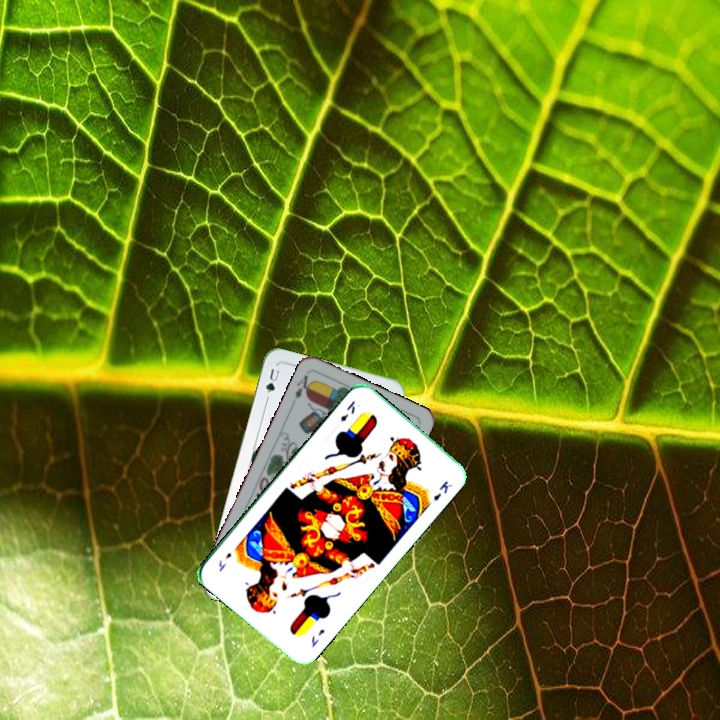EA: (290, 369, 316, 403)
EK: (337, 396, 358, 424), (307, 625, 327, 650)
GU: (262, 364, 282, 402)
